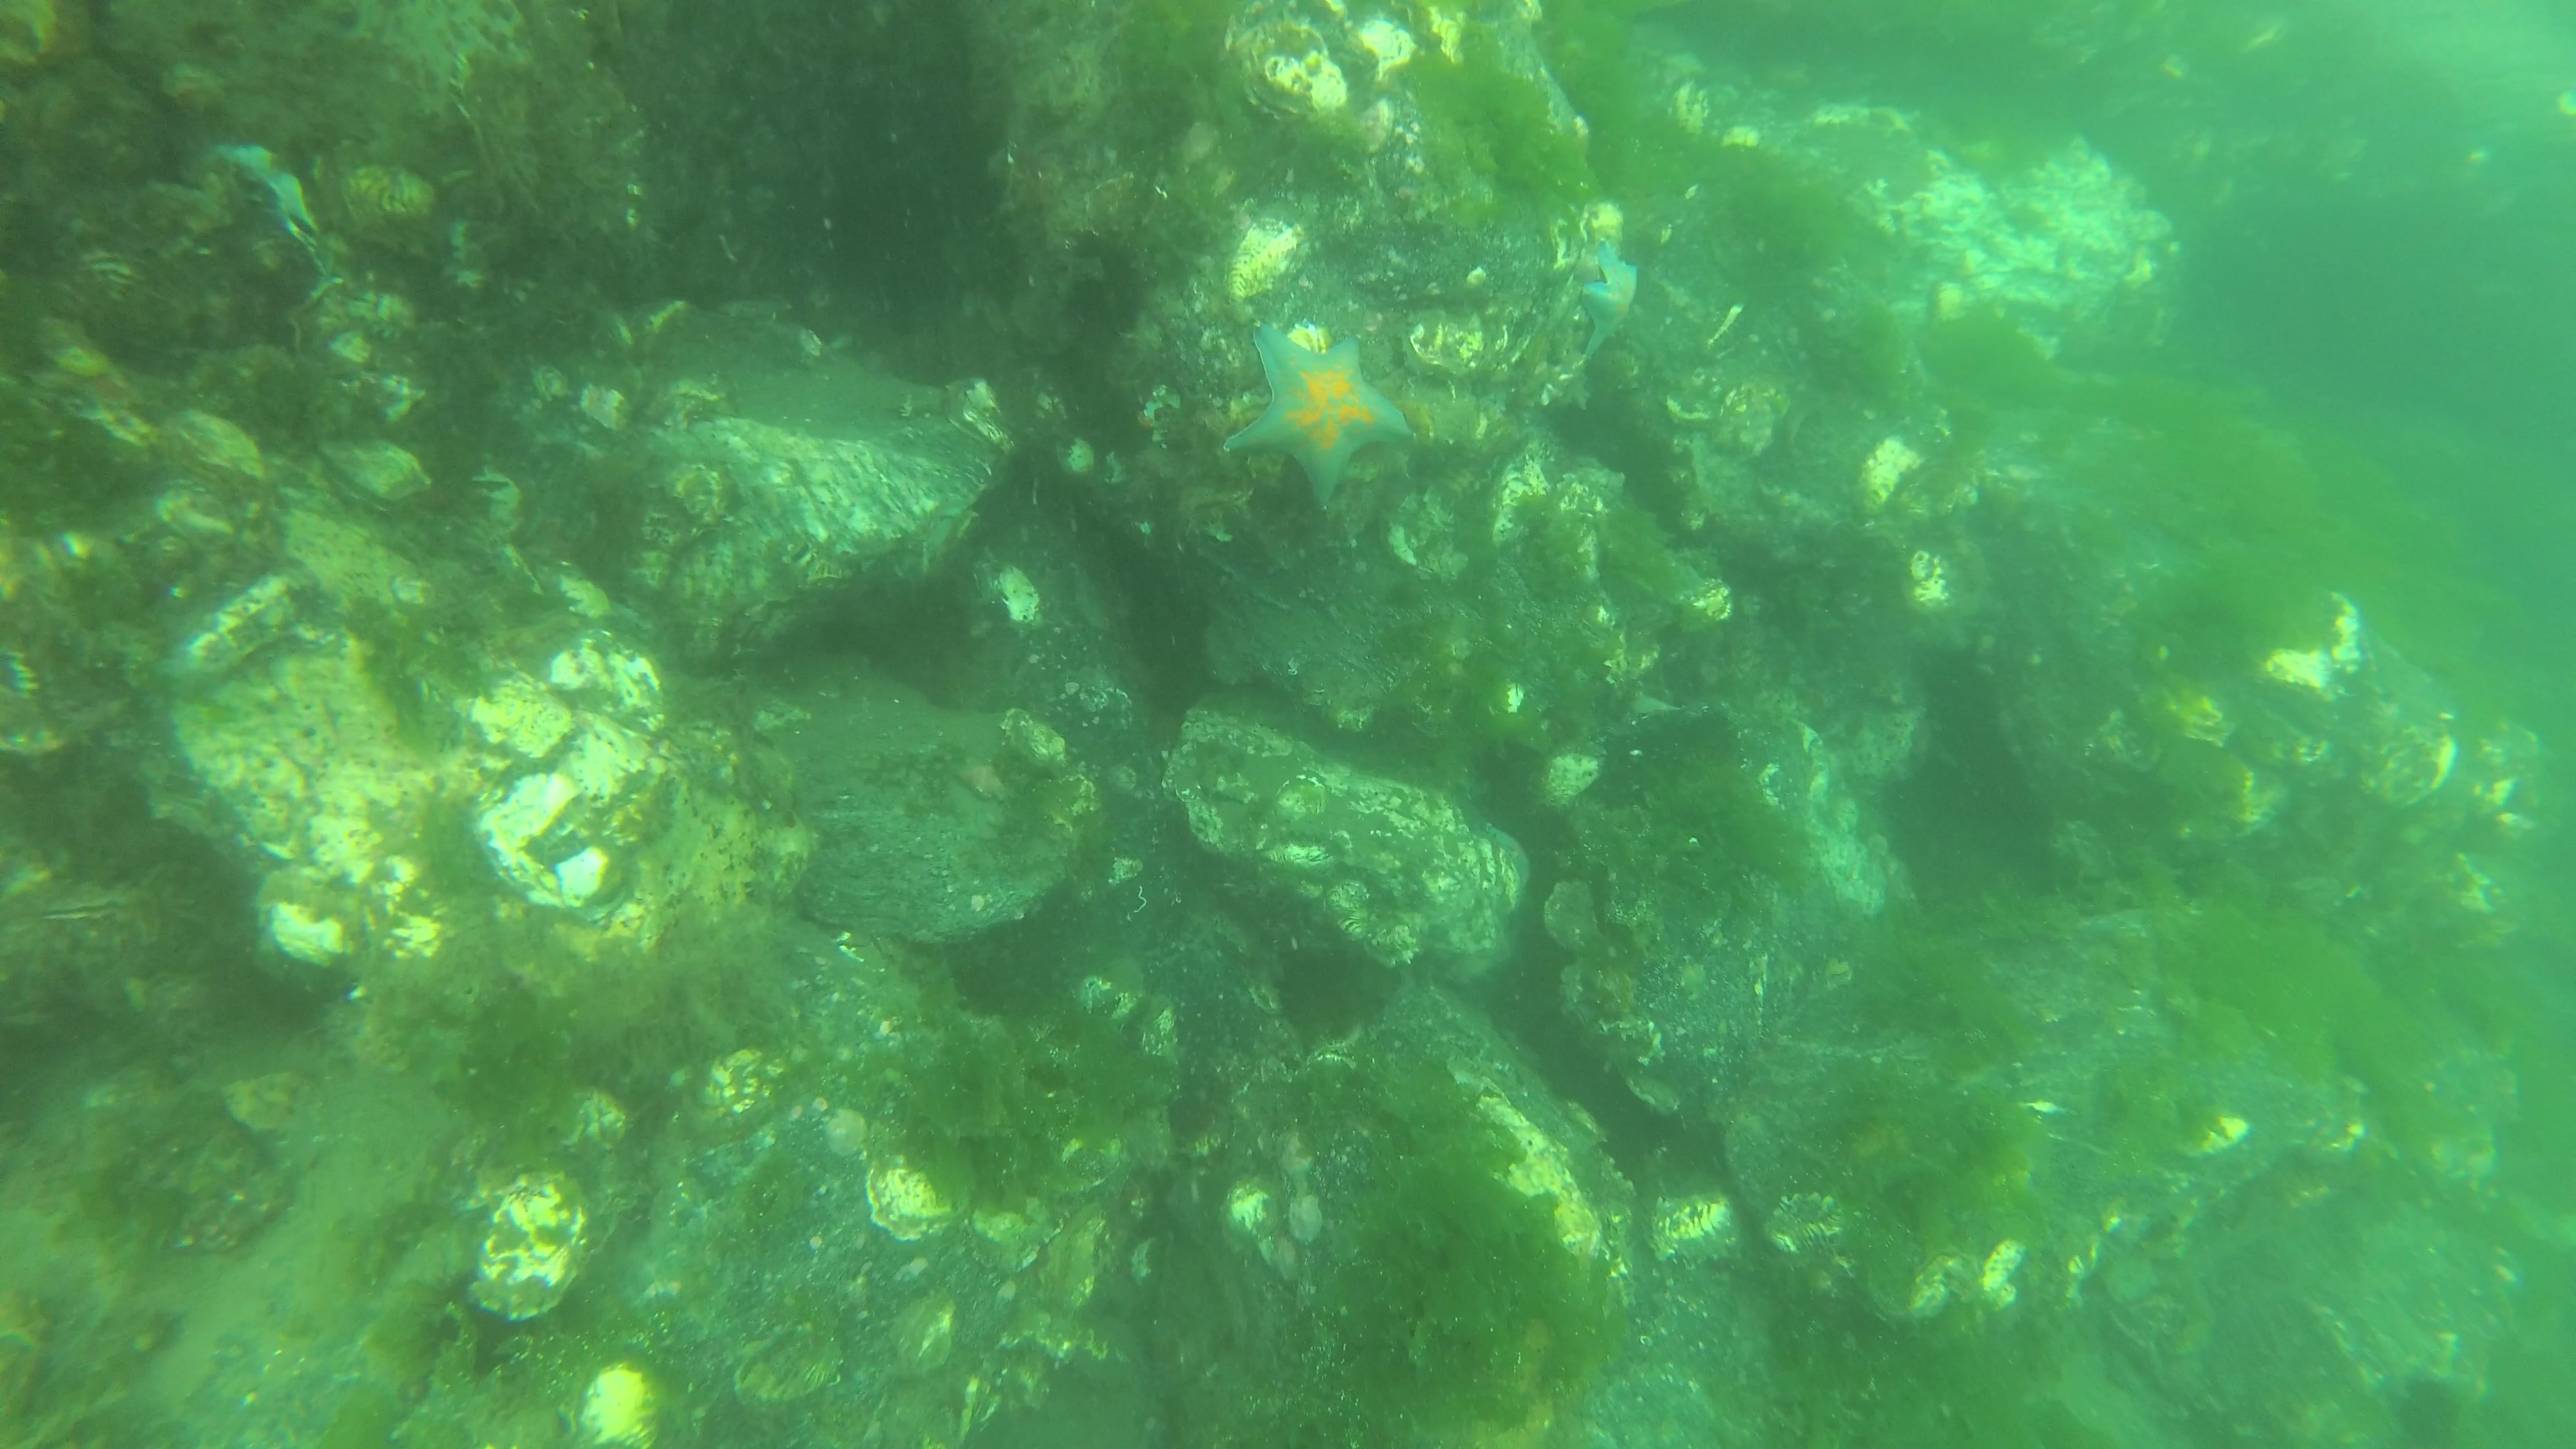echinus: (2392, 1371, 2465, 1449)
starfish: (1221, 322, 1412, 506), (214, 134, 326, 264), (1578, 241, 1642, 363)
